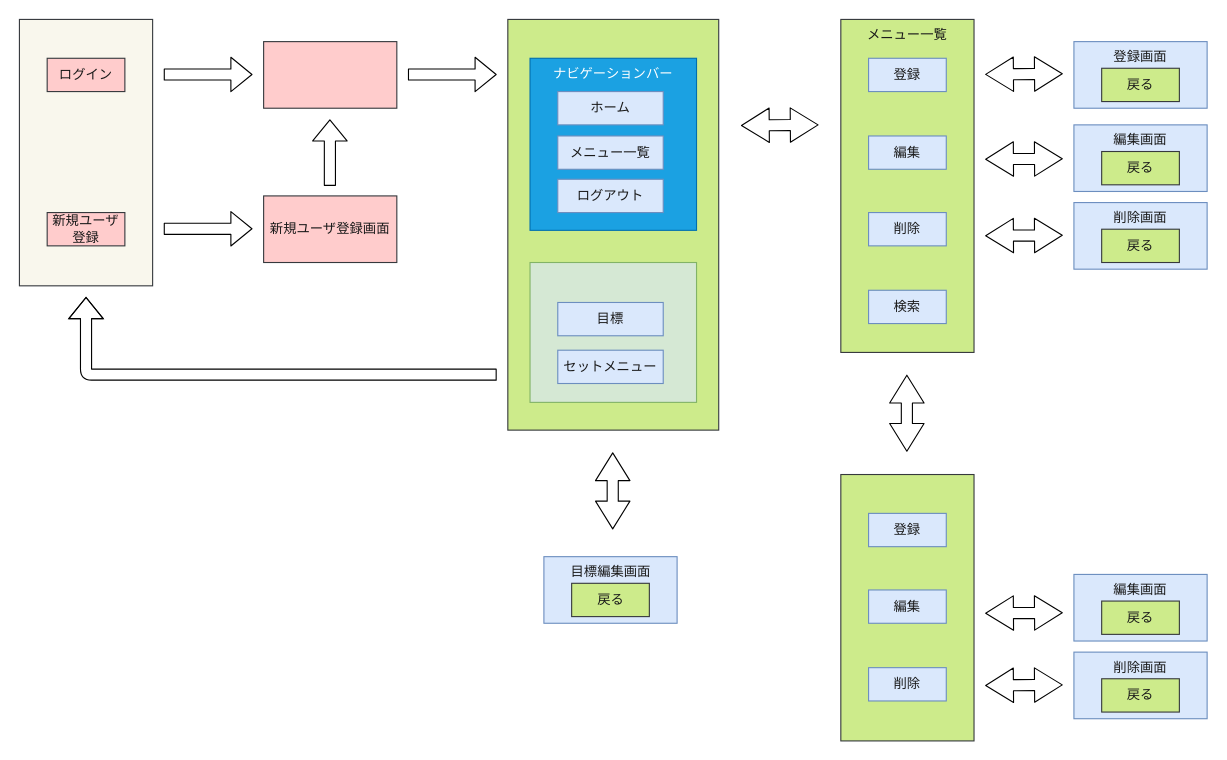
This 1227x760 diagram has some shape labels left out. Here are the shapes that lost their labels. From the top down, the box of each, then its label:
(263, 41, 397, 108): ログイン画面
(18, 18, 153, 286): Welcomeページ
(507, 18, 719, 430): ホーム画面
(529, 261, 697, 402): 表示
(840, 473, 974, 741): マスタ一覧
